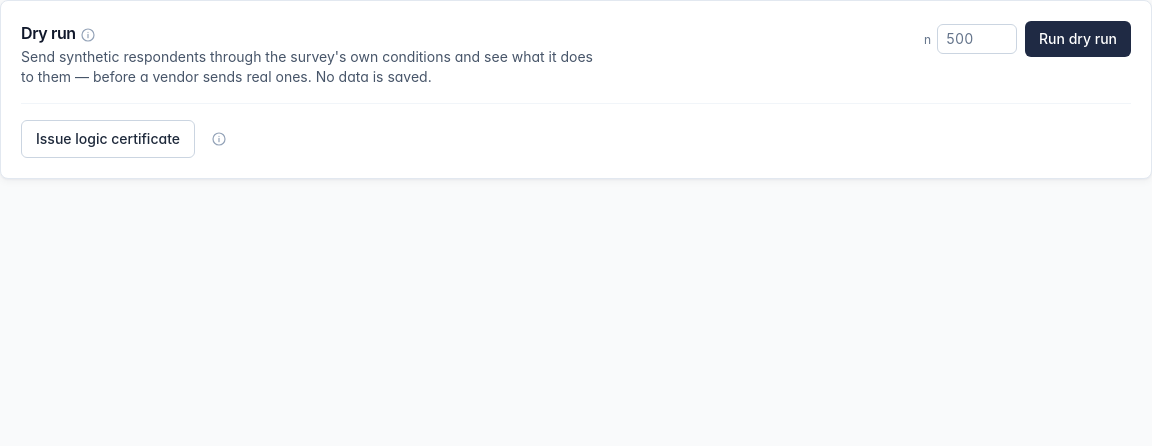
Scenario: DryRunPanel solver line › names a question that can never be shown, with the reason
Click the button "Run dry run": (1078, 39) [1025,21,1131,57]
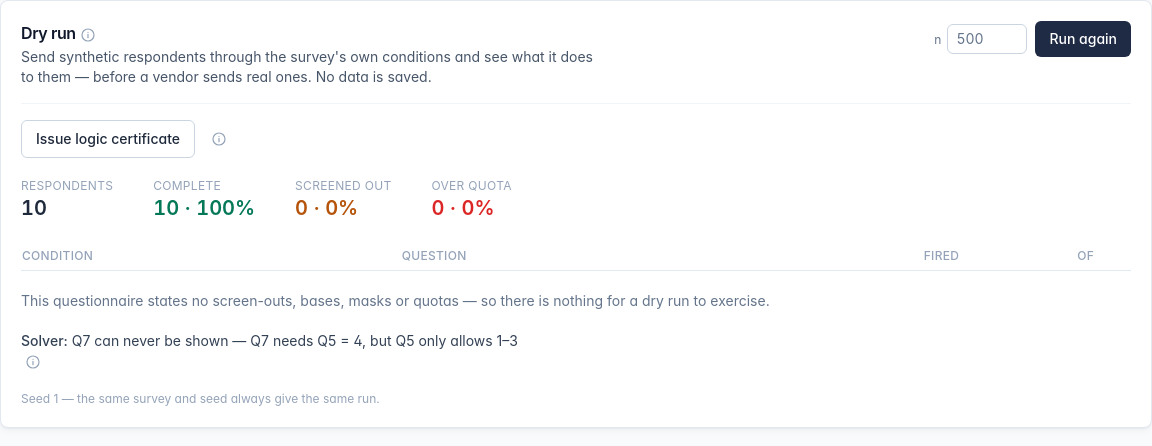
Expected: the text "Q7 needs Q5 = 4, but Q5 only allows 1–3" is shown, [250,332,518,349]
